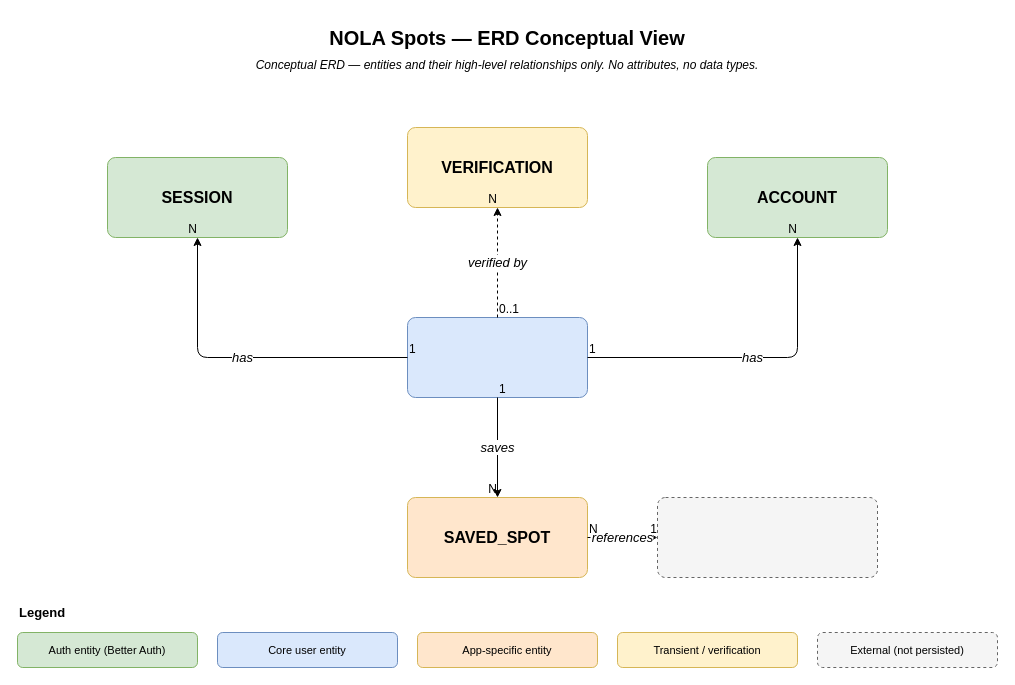
The diagram is 1015 pixels wide and 685 high, and some of its shapes have lost their labels. The shapes that lost their labels are listed below. From the top down, each one's centre as x and y in pixels, then its label:
At [497,357]: "USER".
At [767,537]: "YELP BUSINESS (external — not stored)".
